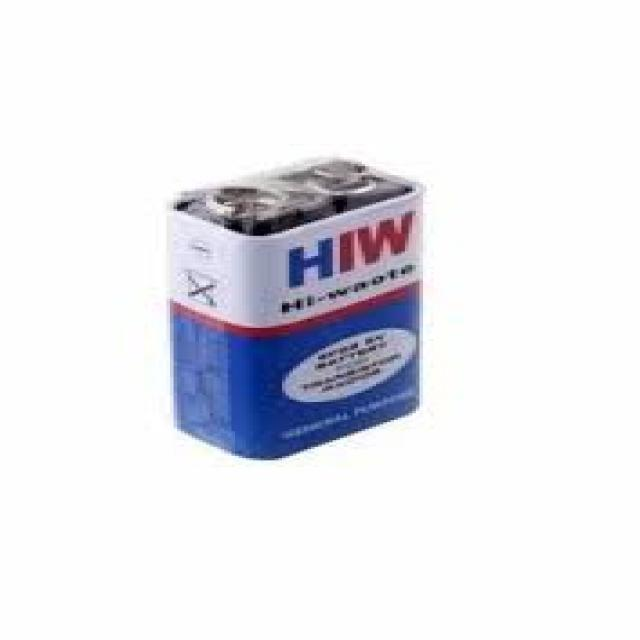battery: (165, 154, 425, 460)
